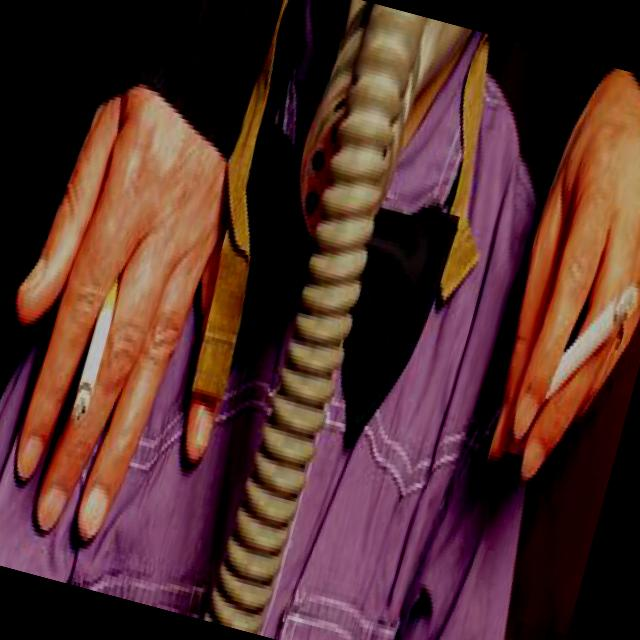cigarette: (44, 232, 153, 482), (517, 244, 640, 451)
